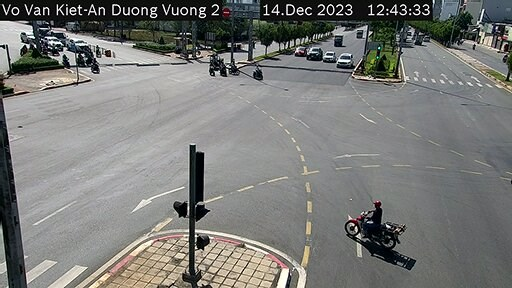car: (306, 44, 328, 67), (294, 42, 311, 62), (42, 36, 64, 50), (323, 49, 339, 66), (338, 51, 352, 69), (68, 40, 84, 52)
motorbike: (348, 198, 403, 252), (253, 58, 271, 82)
truck: (333, 31, 349, 49), (47, 29, 69, 39)
